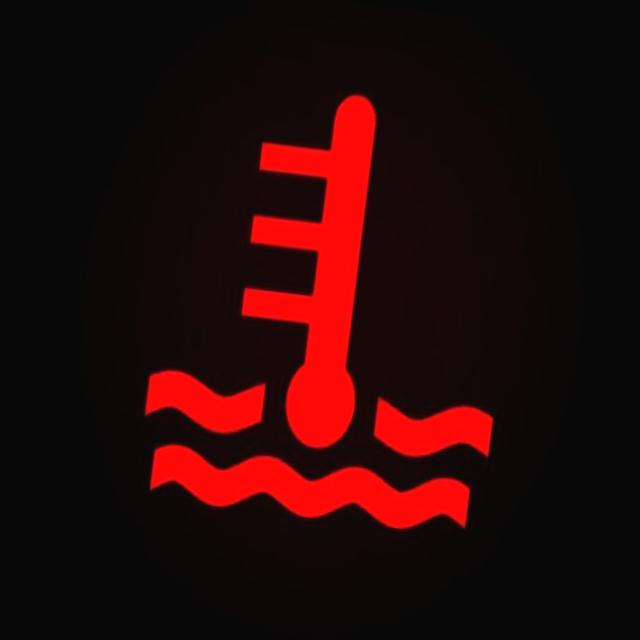kontrolka: (98, 57, 550, 563)
